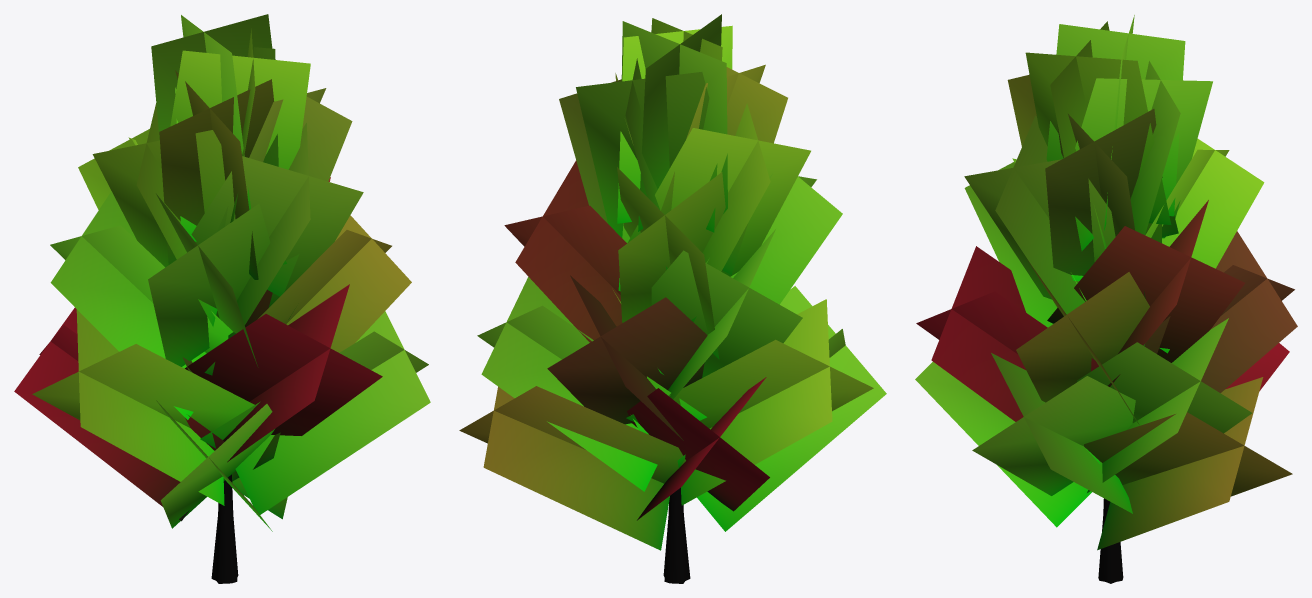
The model's file is Tree_1_Sample.fbx.
The picture shows the model from 3 angles, left to right: view 1: azimuth 30°, elevation 25°; view 2: azimuth 150°, elevation 25°; view 3: azimuth 270°, elevation 25°; orthographic projection.
Visible parts, largest first — view 1: Tree_1_1; view 2: Tree_1_1; view 3: Tree_1_1.
Part boxes in pixels (bbox=[...]): Tree_1_1: bbox=[14, 14, 430, 583]; Tree_1_1: bbox=[459, 14, 886, 583]; Tree_1_1: bbox=[915, 15, 1297, 583].
Bounding box in the file's own units: 2395 × 3614 × 2303.
